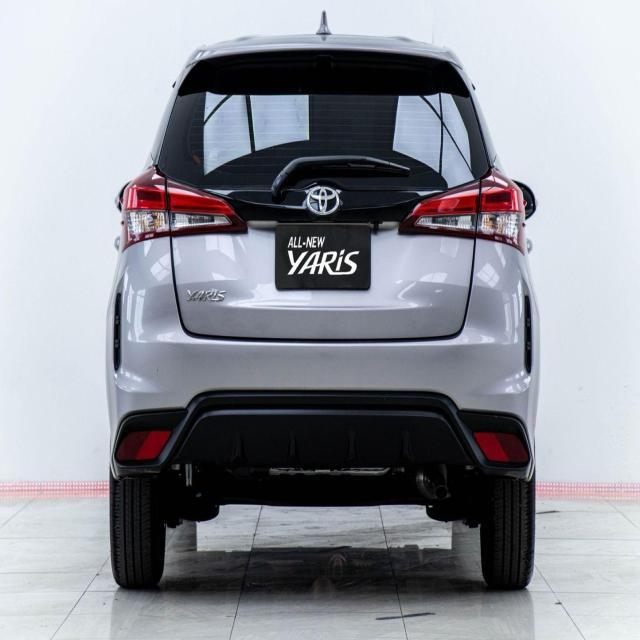Hatchback: (104, 21, 542, 593)
